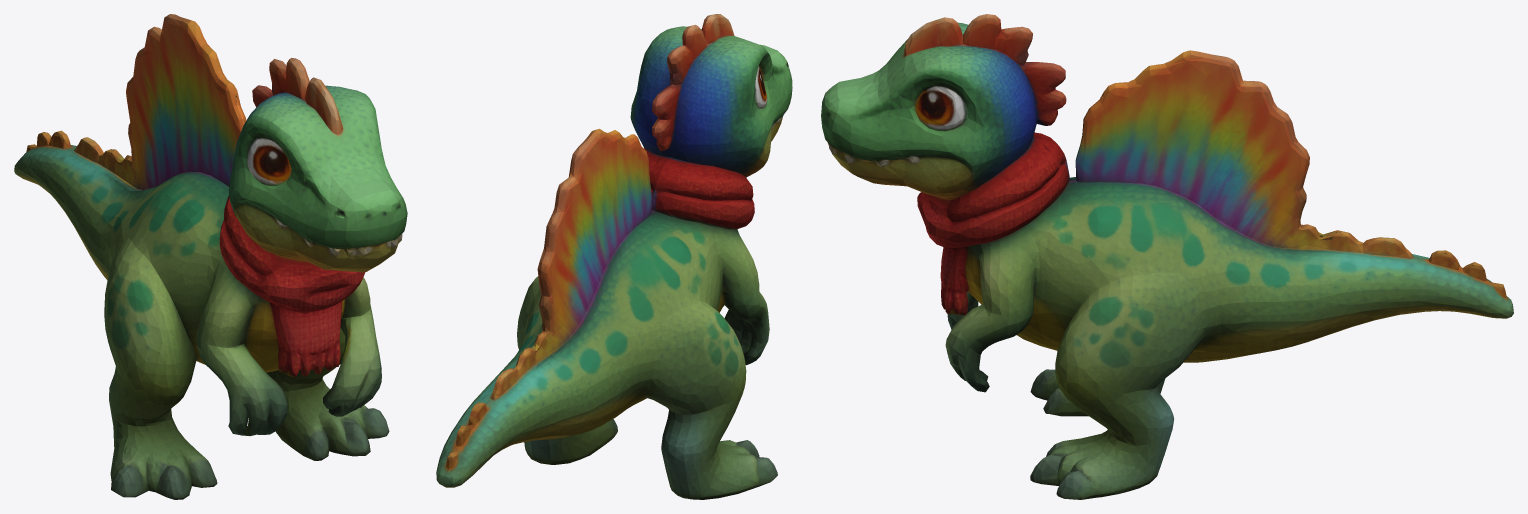
File: image_9.glb
3 renders of one model, left to right at view 1: azimuth 30°, elevation 25°; view 2: azimuth 150°, elevation 25°; view 3: azimuth 270°, elevation 25°, orthographic. The views are drawn at different scales.
Parts seen in each view (by area): view 1: world; view 2: world; view 3: world.
Boxes of the visible parts, <box> form: world: <box>14,14,407,499</box>; world: <box>436,14,792,499</box>; world: <box>821,14,1513,499</box>.
Size of the model in its own units: 0.4413 by 0.6818 by 1.
Materials: 1 (1 with a texture image).
